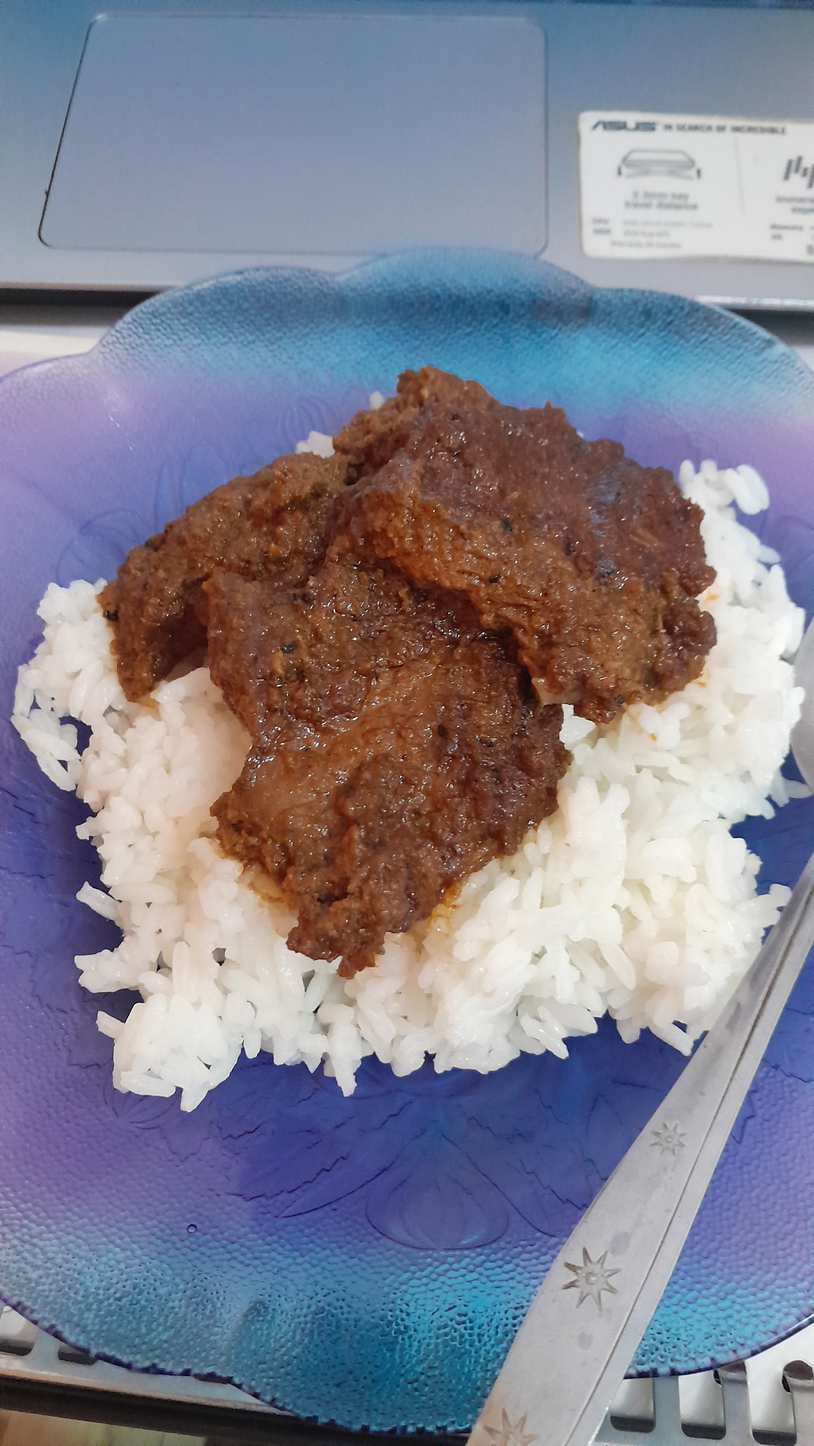daging: (108, 381, 697, 900)
makanan_berpati: (122, 909, 757, 1129)
